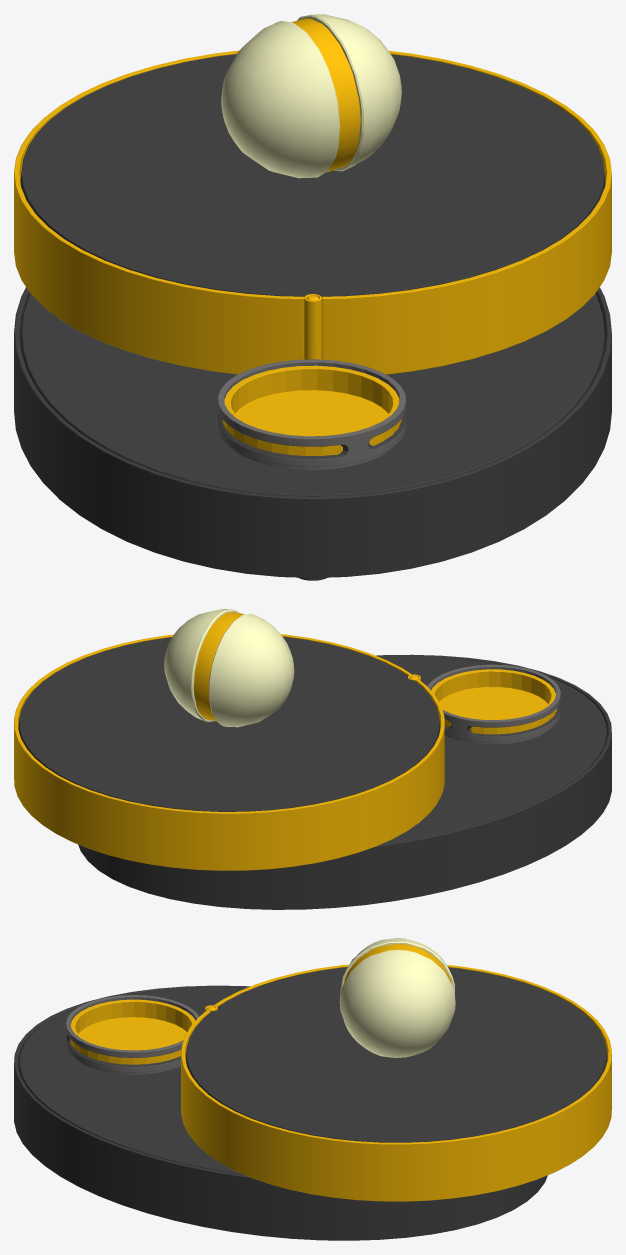
File: brass-tea-table.glb
The picture shows the model from 3 angles, top to bottom: view 1: azimuth 30°, elevation 25°; view 2: azimuth 150°, elevation 25°; view 3: azimuth 270°, elevation 25°; orthographic projection. The views are drawn at different scales.
Visible parts, largest first — view 1: brass-tea-table, subscattering; view 2: brass-tea-table, subscattering; view 3: brass-tea-table, subscattering.
Boxes of the visible parts, box(x1,y1,x2,y2) form: brass-tea-table: box(14, 18, 611, 580); subscattering: box(221, 14, 401, 178); brass-tea-table: box(14, 612, 611, 909); subscattering: box(164, 609, 294, 727); brass-tea-table: box(14, 944, 611, 1240); subscattering: box(339, 938, 455, 1057).
Bounding box in the file's own units: 1.14 × 0.5639 × 1.32.
